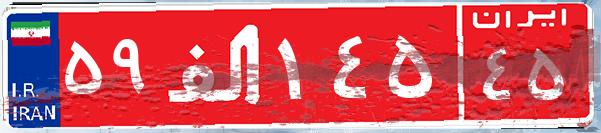1: (273, 28, 330, 110)
4: (330, 28, 385, 110), (475, 38, 525, 113)
5: (385, 28, 445, 110), (57, 26, 110, 107), (525, 38, 570, 115)
9: (110, 28, 158, 105)
الف: (158, 15, 273, 115)
